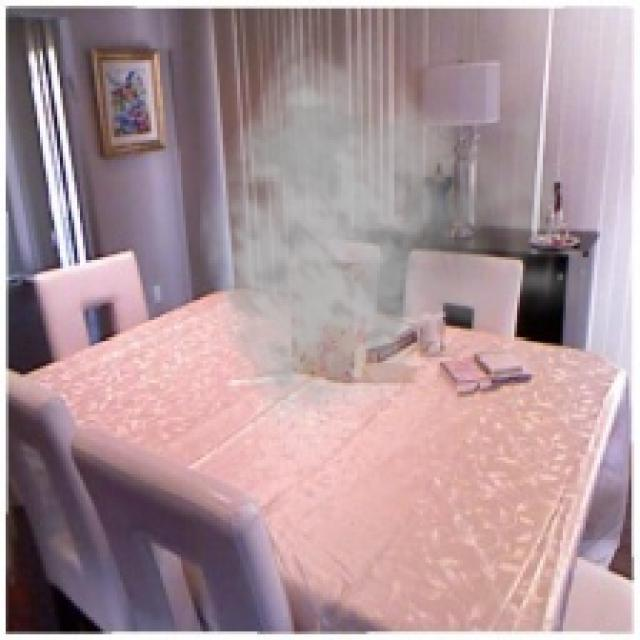Smoke: (197, 17, 597, 429)
